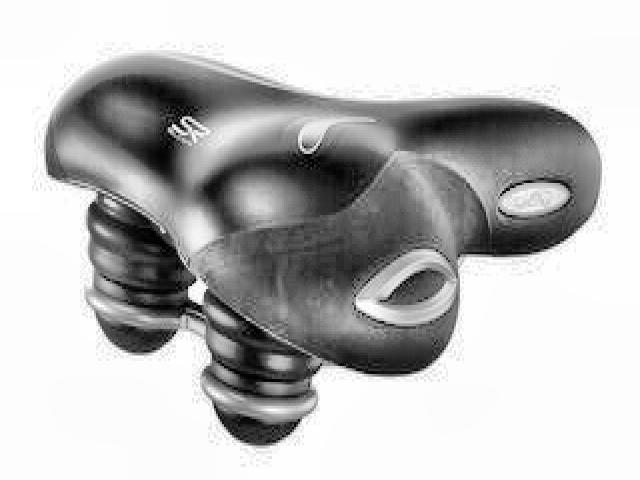saddle: (39, 52, 603, 448)
